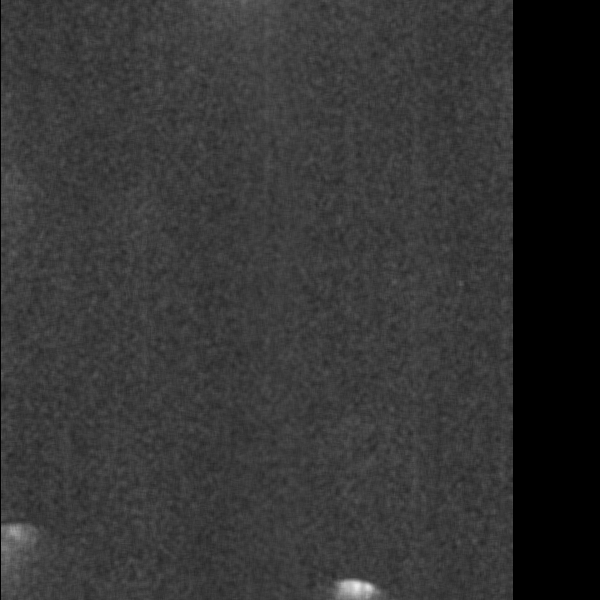spark: (138, 445, 188, 508)
